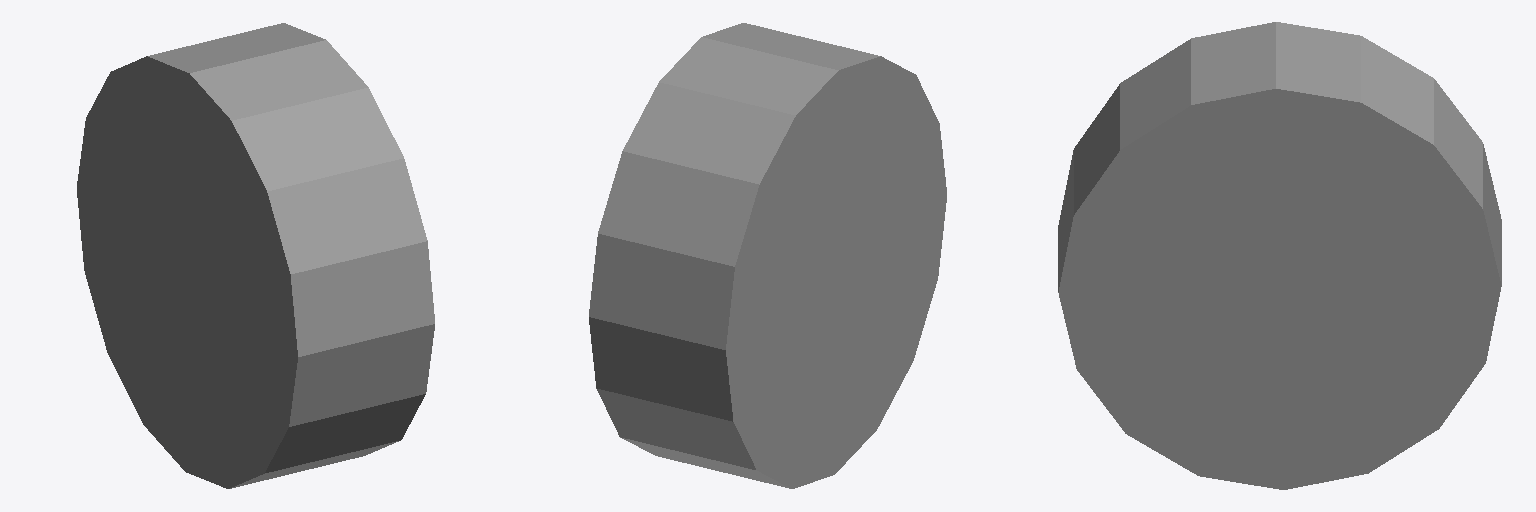
The model's file is Carro_Llanta03.obj.
The picture shows the model from 3 angles: view 1: azimuth 30°, elevation 25°; view 2: azimuth 150°, elevation 25°; view 3: azimuth 270°, elevation 25°; orthographic projection.
Visible parts, largest first — view 1: Llanta_03; view 2: Llanta_03; view 3: Llanta_03.
Boxes of the visible parts, x1,y1,x2,y2 form: Llanta_03: [77, 23, 434, 488]; Llanta_03: [589, 23, 946, 488]; Llanta_03: [1058, 22, 1501, 489].
Bounding box in the file's own units: 9.95 × 27.84 × 27.84.